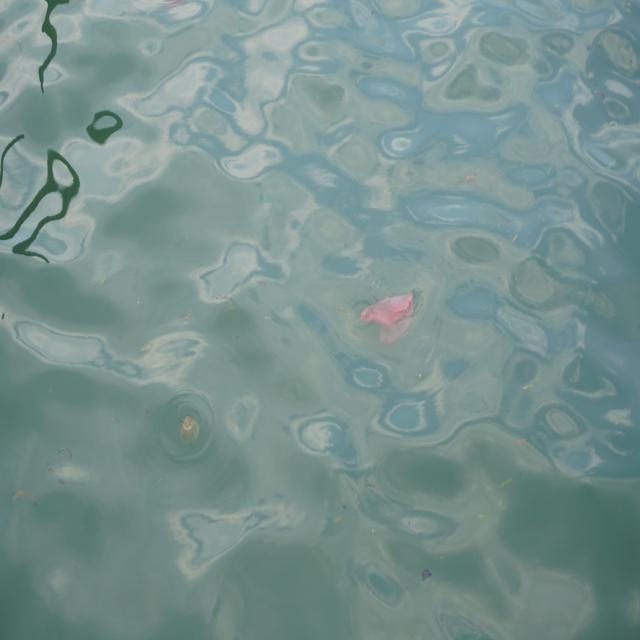Bungkus Minuman: (180, 412, 203, 453)
Kantong Plastik: (360, 288, 416, 347)
